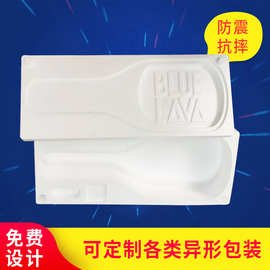5/可回收垃圾/泡沫: (19, 54, 234, 141), (35, 129, 240, 206)
